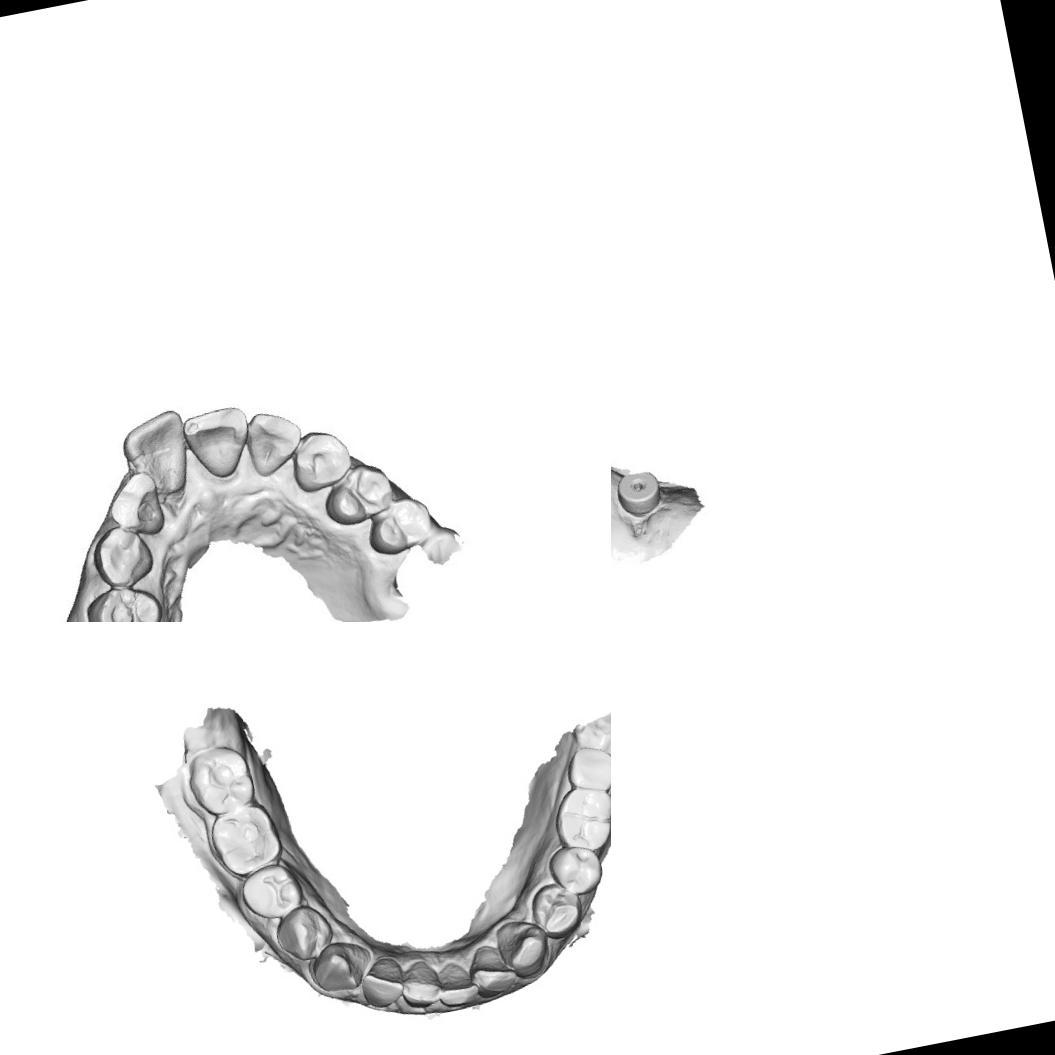canine: (86, 522, 161, 596), (284, 424, 356, 498), (306, 934, 374, 1000), (491, 911, 551, 977)
implant: (613, 467, 661, 514)
incisor: (116, 405, 194, 503), (182, 403, 252, 482), (235, 402, 307, 478), (102, 468, 170, 540), (466, 937, 519, 999), (356, 952, 408, 1012), (393, 956, 442, 1012), (434, 960, 478, 1010)
molar: (202, 797, 289, 882), (180, 737, 260, 820), (547, 782, 611, 856), (558, 737, 611, 795)
premolar: (318, 462, 397, 526), (361, 493, 435, 560), (237, 859, 307, 924), (269, 898, 334, 964), (523, 874, 585, 942), (548, 839, 606, 899), (83, 580, 165, 622)
